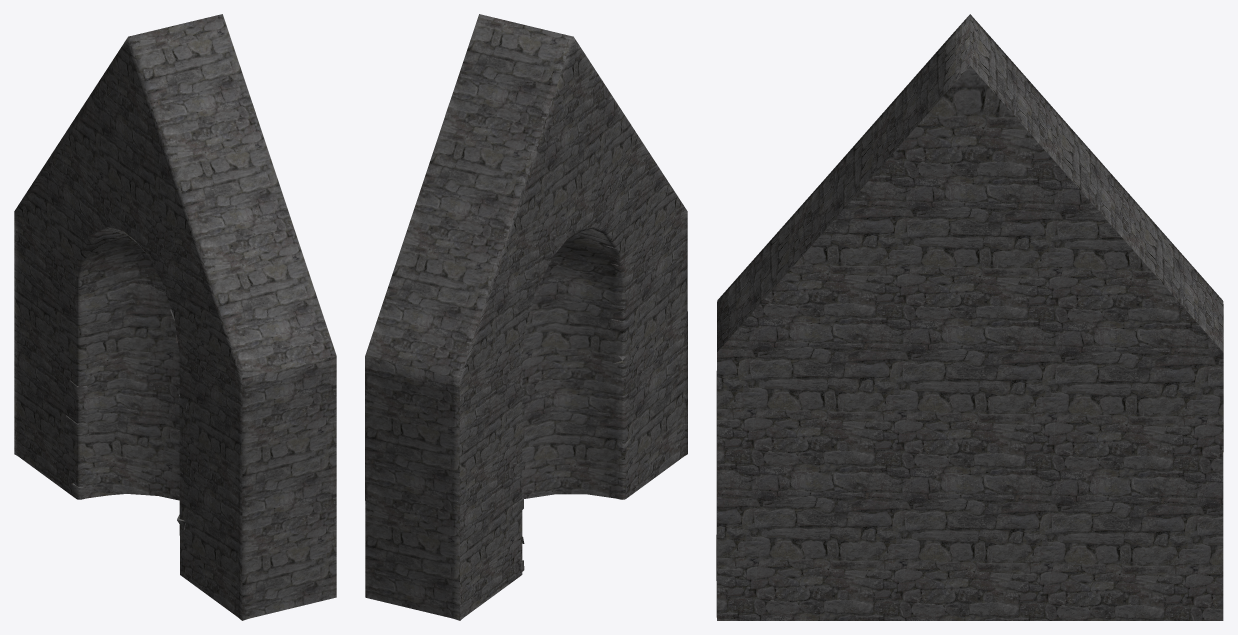
File: SM_Church13.fbx
The picture shows the model from 3 angles, left to right: view 1: azimuth 30°, elevation 25°; view 2: azimuth 150°, elevation 25°; view 3: azimuth 270°, elevation 25°; orthographic projection. The views are drawn at different scales.
Parts seen in each view (by area): view 1: SM_Church13_LOD0; view 2: SM_Church13_LOD0; view 3: SM_Church13_LOD0.
Part boxes in pixels (x1,y1,x2,y2): SM_Church13_LOD0: [14, 14, 336, 620]; SM_Church13_LOD0: [365, 14, 687, 620]; SM_Church13_LOD0: [716, 14, 1223, 620].
Bounding box in the file's own units: 187 × 761 × 921.
